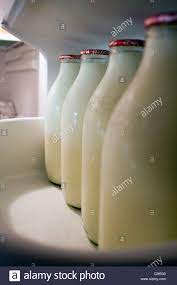milk: (98, 14, 177, 255), (92, 36, 140, 243), (43, 49, 74, 187), (60, 40, 84, 213)
